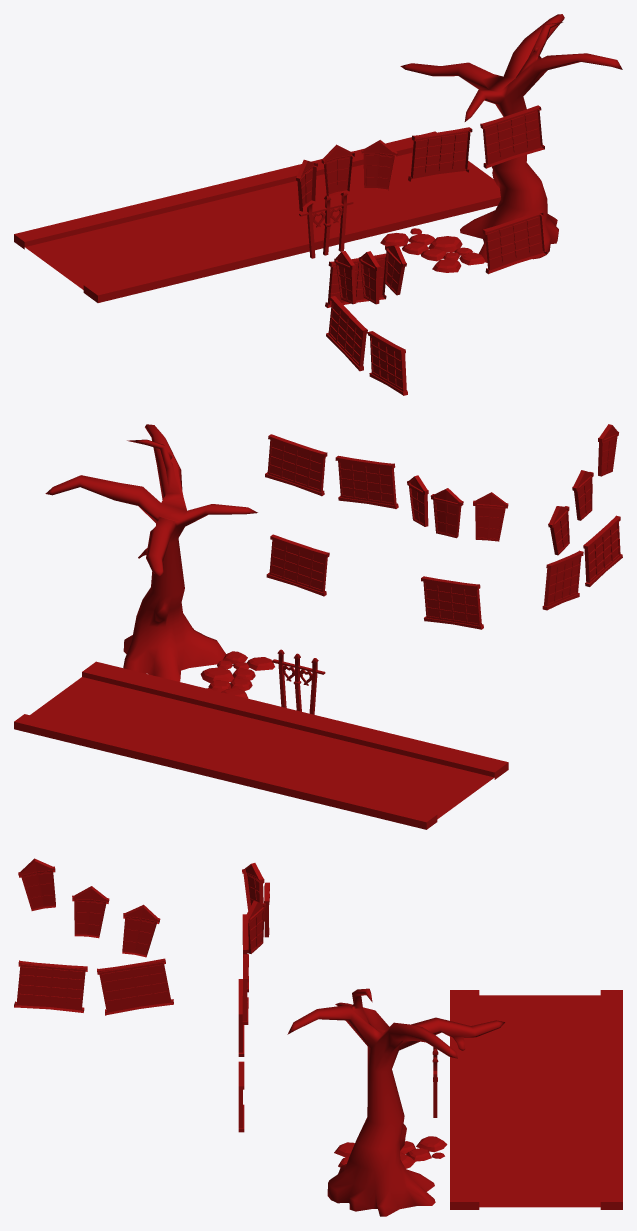
Rendered from HouseAccents.FBX.
3 views of the same model, one above another, from view 1: azimuth 30°, elevation 25°; view 2: azimuth 150°, elevation 25°; view 3: azimuth 270°, elevation 25° (orthographic). The views are drawn at different scales.
Parts seen in each view (by area): view 1: Plane002; view 2: Plane002; view 3: Plane002.
Part boxes in pixels (x1,y1,x2,y2): Plane002: [14, 14, 622, 395]; Plane002: [14, 424, 622, 829]; Plane002: [14, 858, 622, 1216].
Size of the model in its own units: 3001 by 3268 by 1300.
